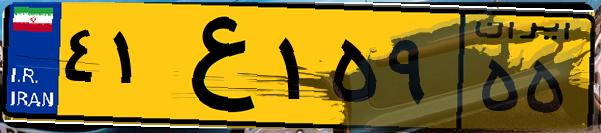1: (270, 28, 330, 110), (110, 28, 158, 98)
4: (57, 26, 110, 100)
5: (330, 28, 385, 110), (475, 38, 525, 113), (525, 38, 570, 115)
9: (385, 28, 445, 110)
ع: (158, 12, 270, 120)
